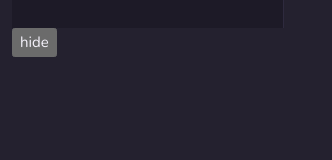
Scenario: folding a sidebar › folds and unfolds from its buttons, and remembers it
Click the button with class "sidebar-fold": (34, 43) left=12, top=28, right=57, bottom=57
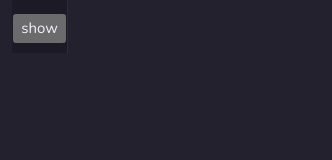
Check: the navigation bar with class "sidebar-rail" is shown, box left=12, top=0, right=68, bottom=53
Click the button with class "sidebar-unfold": (40, 29) left=13, top=14, right=66, bottom=43
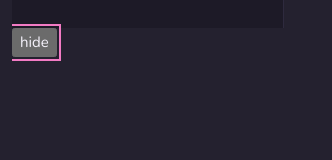
Check: the element with class "sidebar" is shown, box left=12, top=0, right=284, bottom=28
